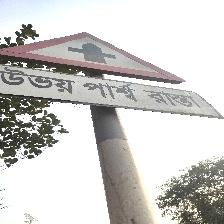Crossroad: (0, 23, 223, 134)
